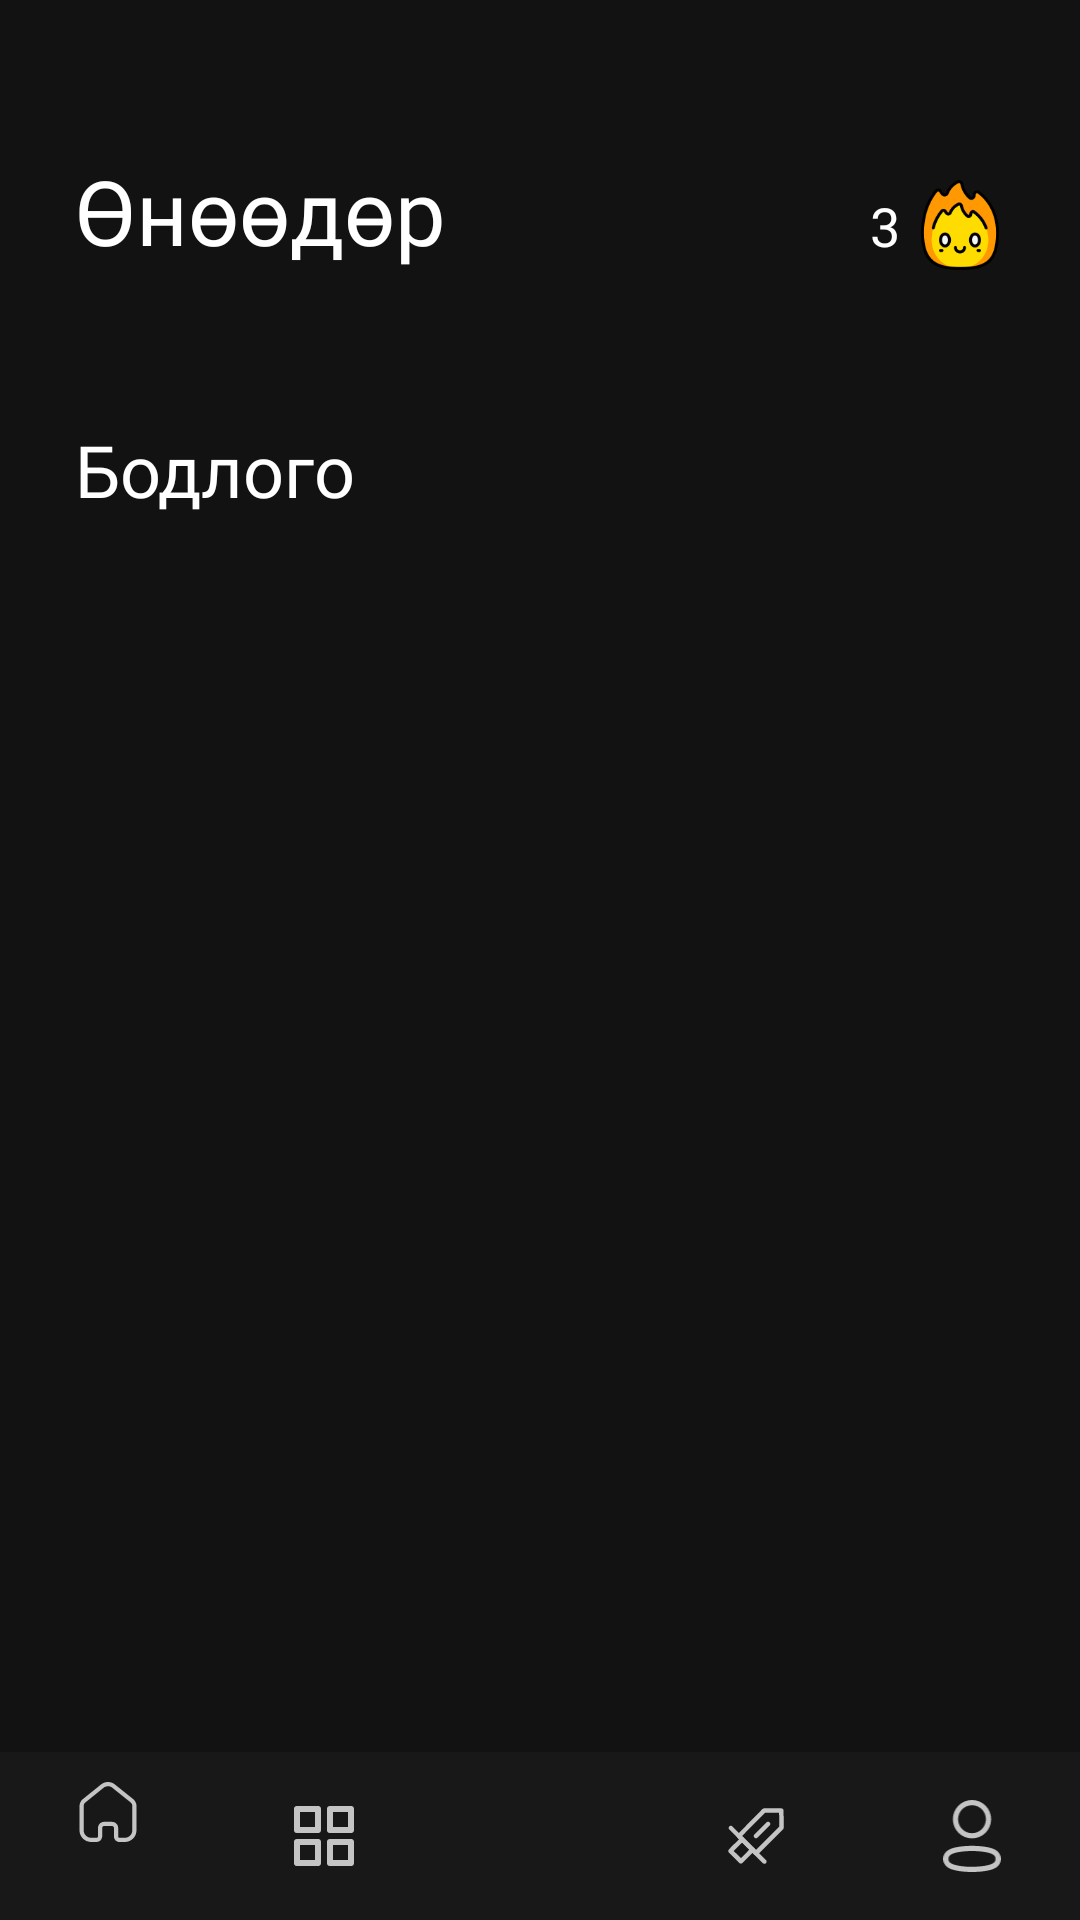

Screen size 1080px×1920px. Icon name, then its center in pixels as (x,y):
flame: (960,225)
